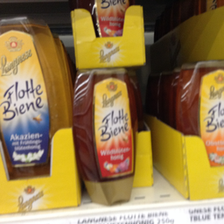honey: (1, 20, 67, 197), (71, 67, 142, 206), (180, 60, 224, 175)
